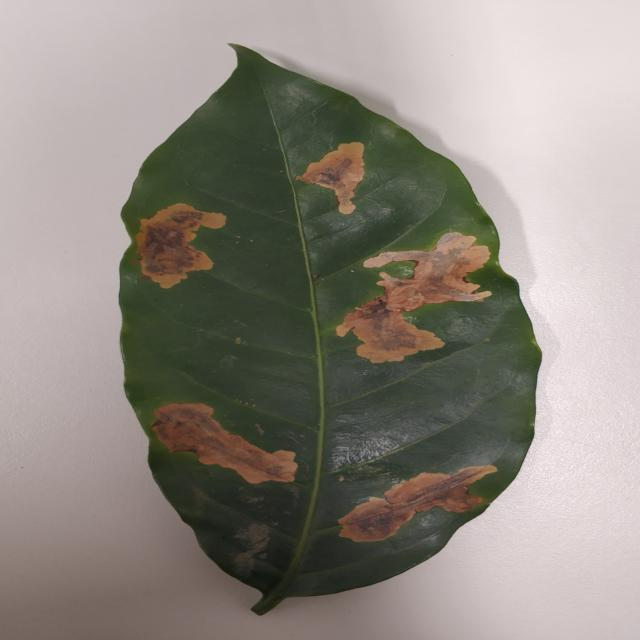Plaga-Minador: (116, 44, 542, 617)
